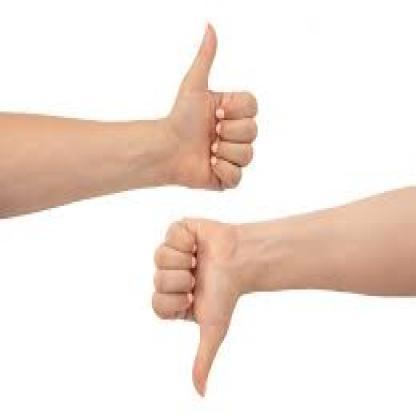thumb_down: (152, 210, 244, 398)
thumb_up: (169, 15, 258, 196)
